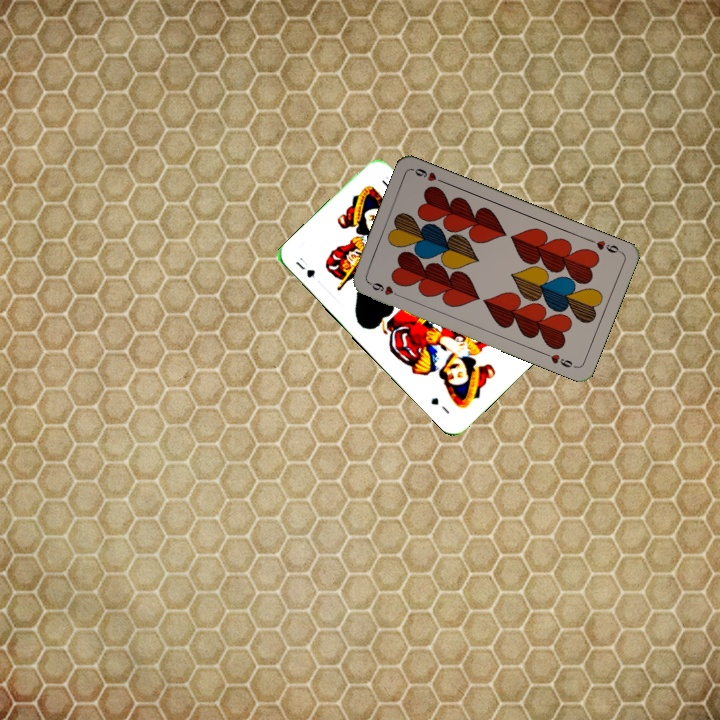GU: (292, 253, 318, 281)
H9: (365, 278, 404, 300), (585, 235, 624, 256)
